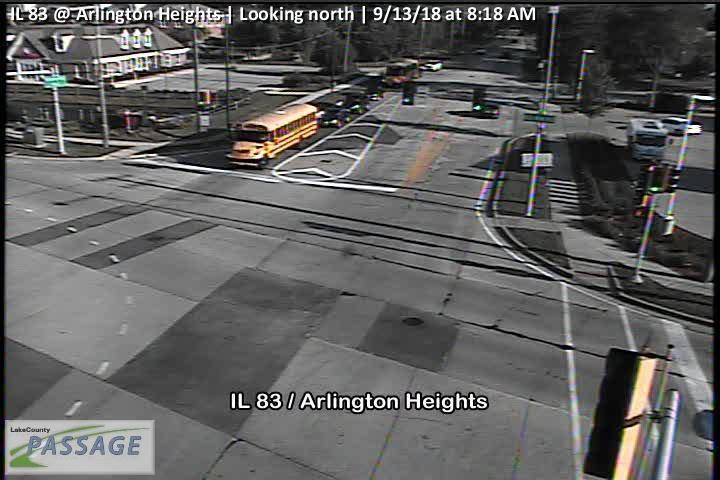Bus: (225, 103, 321, 170), (382, 56, 420, 88)
SUV: (341, 92, 371, 115), (480, 102, 499, 119), (421, 58, 442, 72)
Sedan: (660, 116, 702, 136), (318, 105, 351, 129)
Truck: (627, 117, 674, 160)
